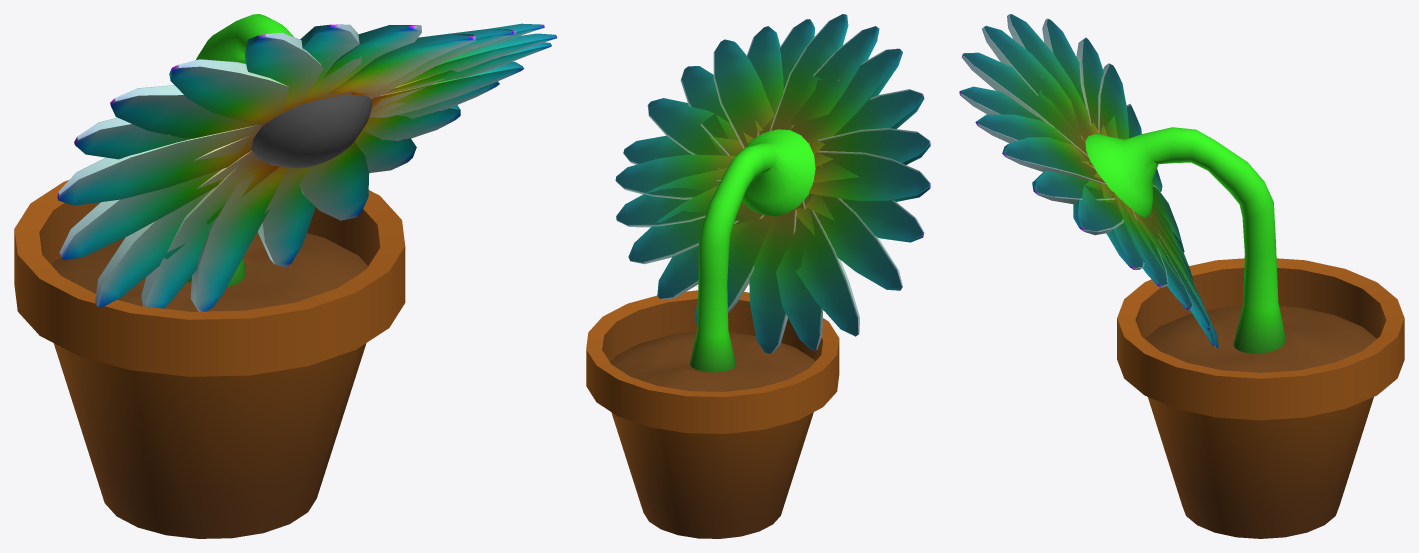
Rendered from plant_pot.glb.
3 renders of one model, left to right at view 1: azimuth 30°, elevation 25°; view 2: azimuth 150°, elevation 25°; view 3: azimuth 270°, elevation 25°, orthographic. The views are drawn at different scales.
Parts seen in each view (by area): view 1: plantpot; view 2: plantpot; view 3: plantpot.
Part boxes in pixels (box(x1,y1,x2,y2)): plantpot: box(14, 14, 557, 538); plantpot: box(586, 14, 930, 538); plantpot: box(959, 14, 1404, 538).
Bounding box in the file's own units: 0.8848 × 1.14 × 1.01.
Materials: 1 (1 with a texture image).
